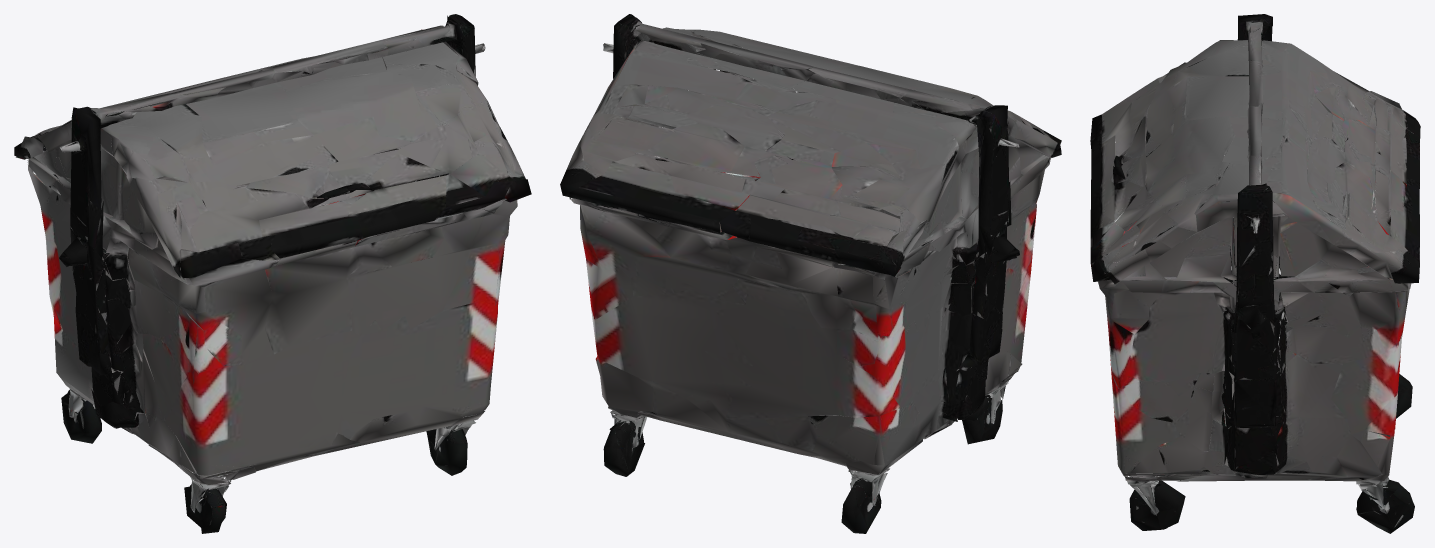
Rendered from contenedor.opt.glb.
3 renders of one model, left to right at view 1: azimuth 30°, elevation 25°; view 2: azimuth 150°, elevation 25°; view 3: azimuth 270°, elevation 25°, orthographic. The views are drawn at different scales.
Parts seen in each view (by area): view 1: Mesh_0; view 2: Mesh_0; view 3: Mesh_0.
Boxes of the visible parts, x1,y1,x2,y2 form: Mesh_0: (14,14,531,533); Mesh_0: (560,14,1061,533); Mesh_0: (1090,14,1420,533).
Bounding box in the file's own units: 1.9 × 1.71 × 1.36.
Materials: 1 (1 with a texture image).
